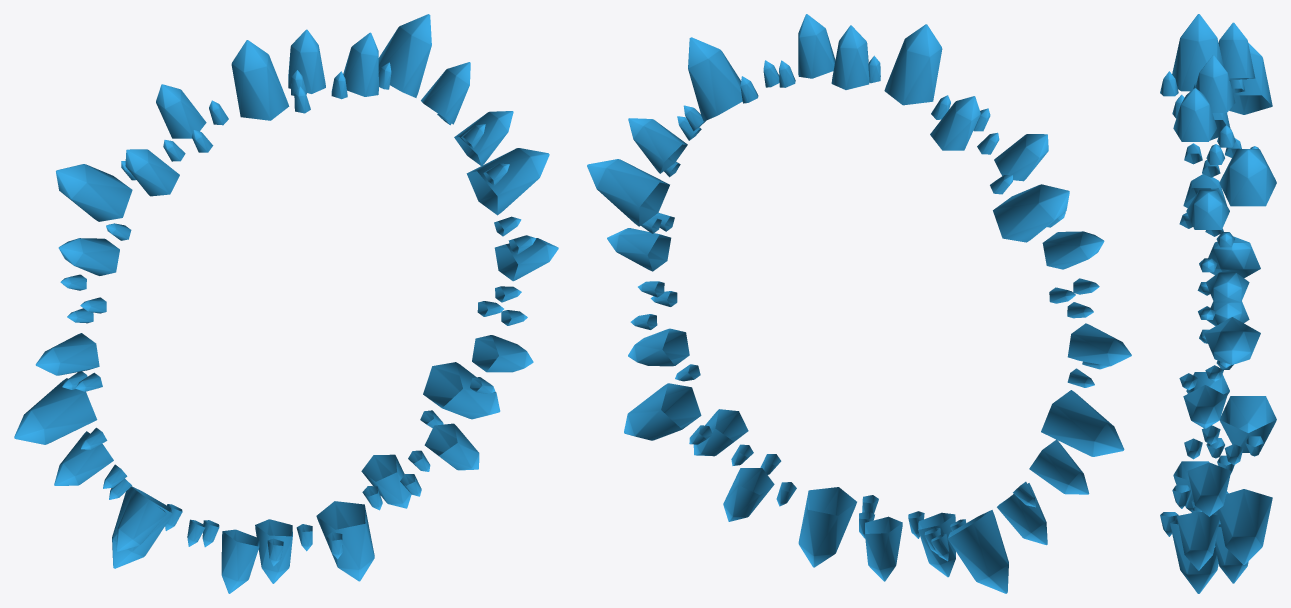
The model's file is WaterLevelBackground.fbx.
The picture shows the model from 3 angles, left to right: view 1: azimuth 30°, elevation 25°; view 2: azimuth 150°, elevation 25°; view 3: azimuth 270°, elevation 25°; orthographic projection. The views are drawn at different scales.
Parts seen in each view (by area): view 1: Icicles1, Icicles; view 2: Icicles1, Icicles; view 3: Icicles, Icicles1.
Boxes of the visible parts, left/top/right/bottom form: Icicles1: left=14, top=40, right=310, bottom=593; Icicles: left=288, top=14, right=558, bottom=581; Icicles1: left=865, top=24, right=1131, bottom=593; Icicles: left=587, top=14, right=878, bottom=567; Icicles: left=1160, top=55, right=1276, bottom=593; Icicles1: left=1160, top=14, right=1276, bottom=515.
Bounding box in the file's own units: 1050 × 1066 × 214.
